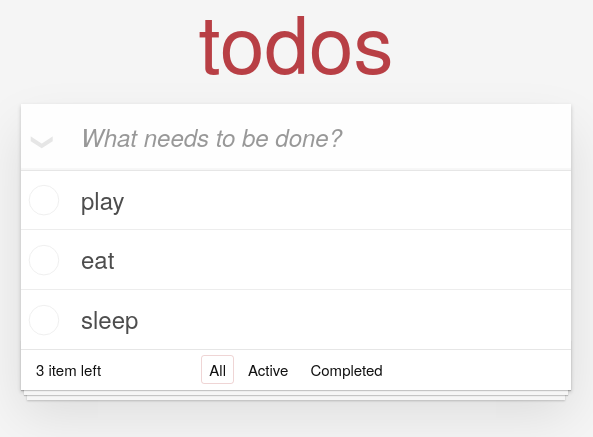
Test: 删除所有已完成任务 › 如果所有任务已完成，清除按钮应该不展示，否则展示
# 设置某个任务变为完成状态
Step 1. Click the checkbox with test id "todo-done" → [296, 200], box [21,171,571,229]
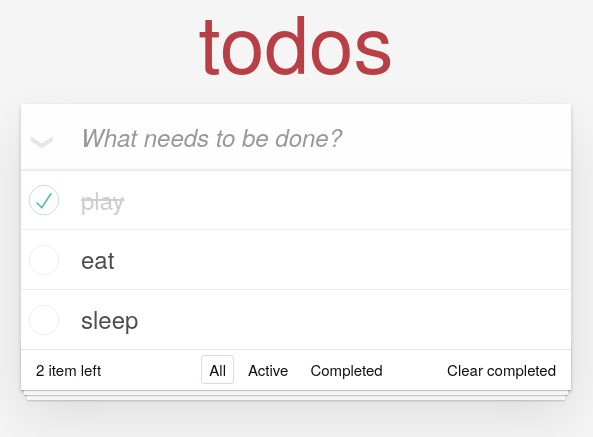
Check: the button with test id "clear-completed" is shown, box [447,360,556,380]
